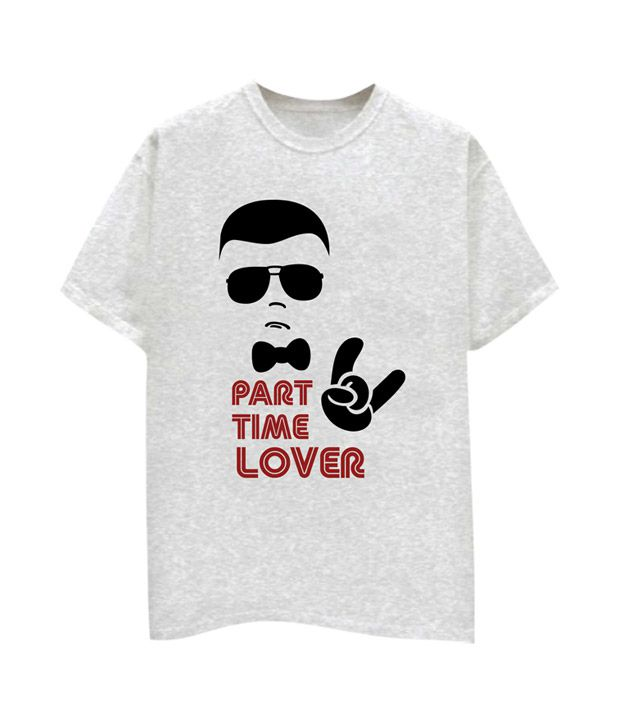T-Shirt: (57, 75, 571, 655)
